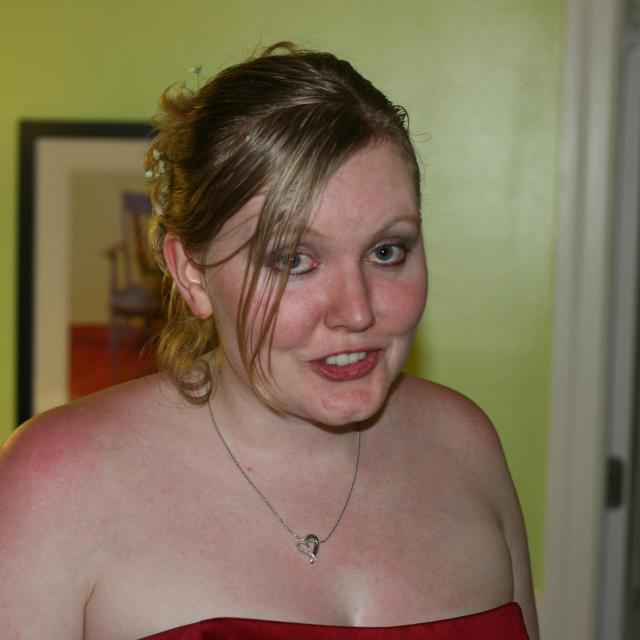no-glass: (264, 236, 412, 278)
